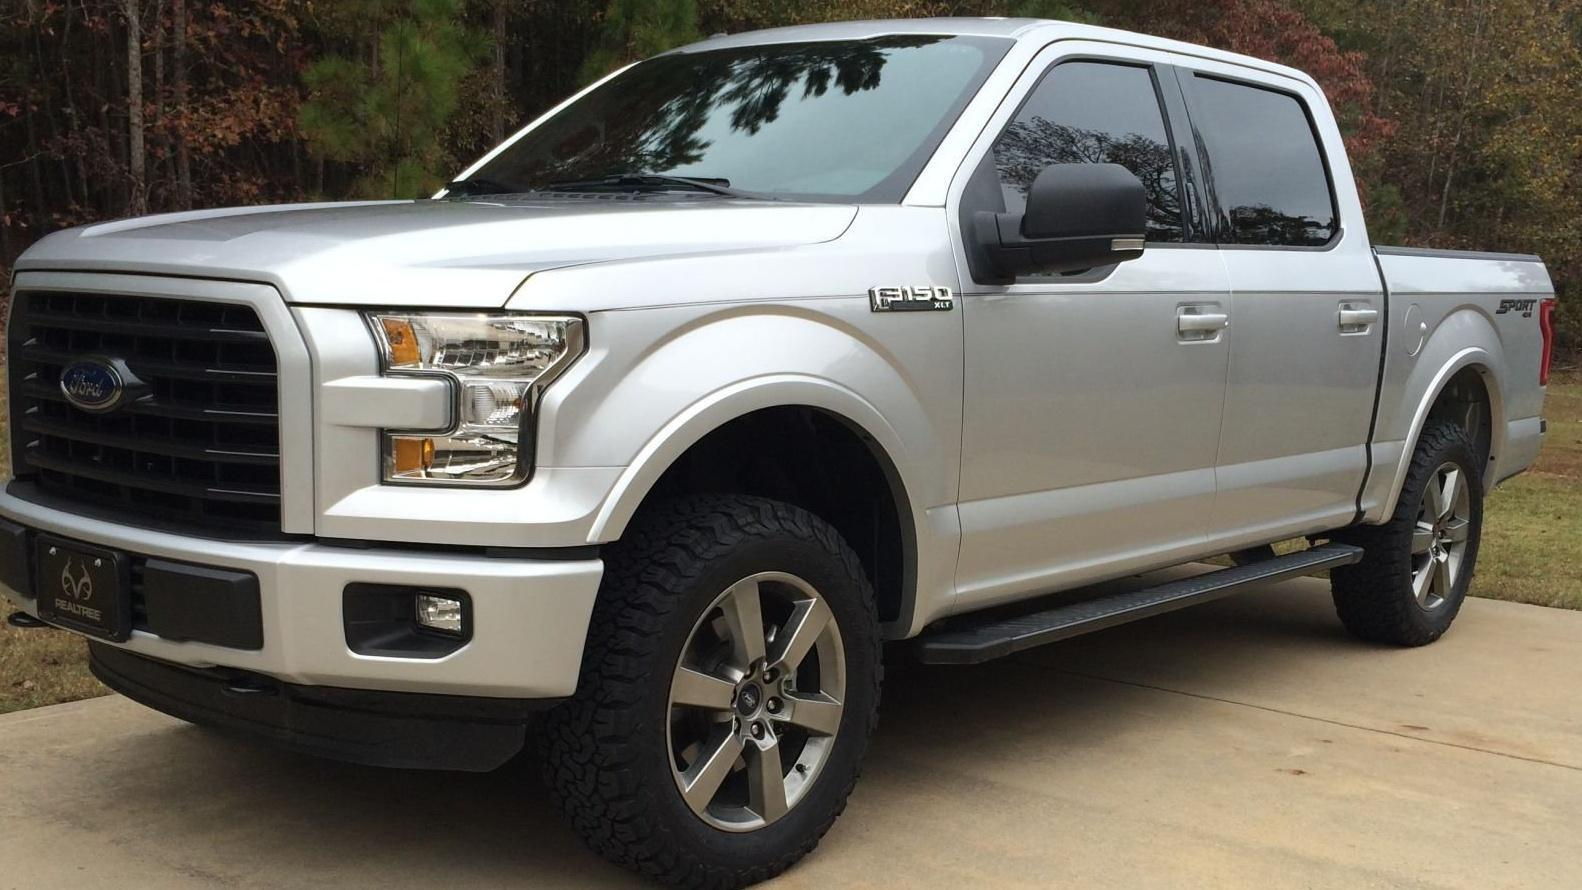Trucks: (1, 23, 1555, 888)
